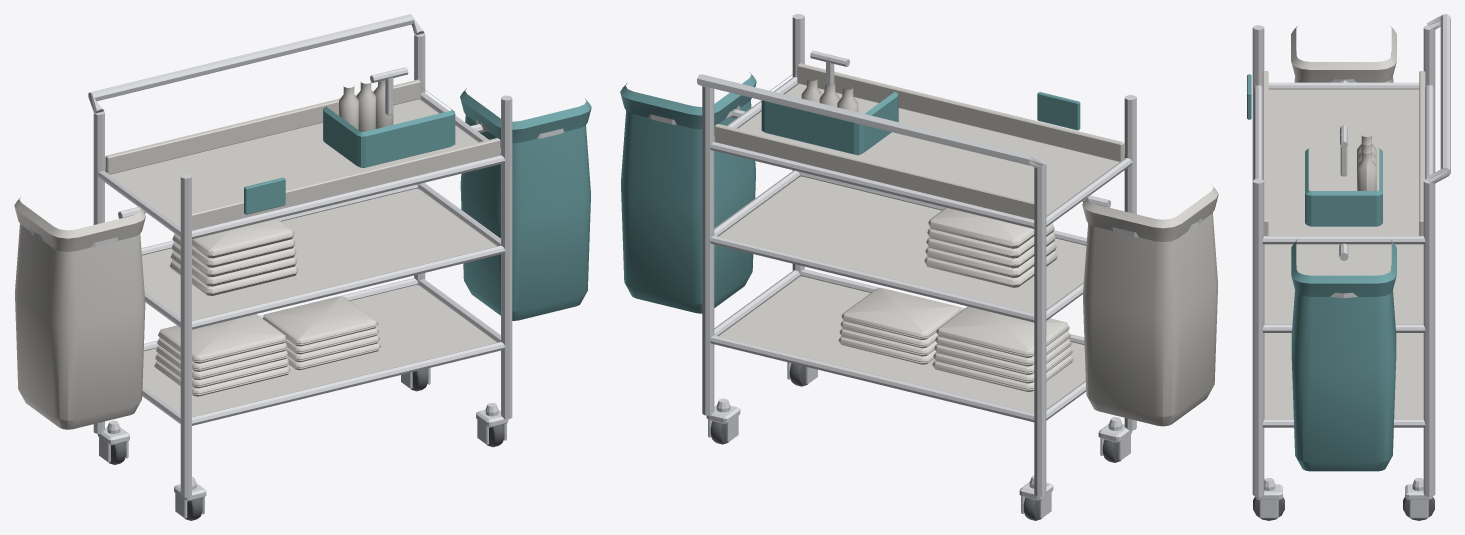
File: hotel-and-resort-operations-housekeeping-trolley-a165d8d7__25882.glb
The picture shows the model from 3 angles, left to right: view 1: azimuth 30°, elevation 25°; view 2: azimuth 150°, elevation 25°; view 3: azimuth 270°, elevation 25°; orthographic projection. The views are drawn at different scales.
Visible parts, largest first — view 1: housekeeping-trolley, castor-lb, castor-rf; view 2: housekeeping-trolley, castor-lf, castor-rb; view 3: housekeeping-trolley, castor-rf (×2), castor-rb (×2).
Part boxes in pixels (x1,y1,x2,y2): housekeeping-trolley: (14,14,591,497); castor-lb: (97,420,129,462); castor-rf: (476,403,508,444); housekeeping-trolley: (620,14,1218,496); castor-lf: (1098,417,1132,460); castor-rb: (706,398,740,442); housekeeping-trolley: (1247,14,1450,496); castor-rf (×2): (1253,478,1284,520); castor-rb (×2): (1403,478,1434,520).
Bounding box in the file's own units: 1.87 × 1.21 × 0.6248.
